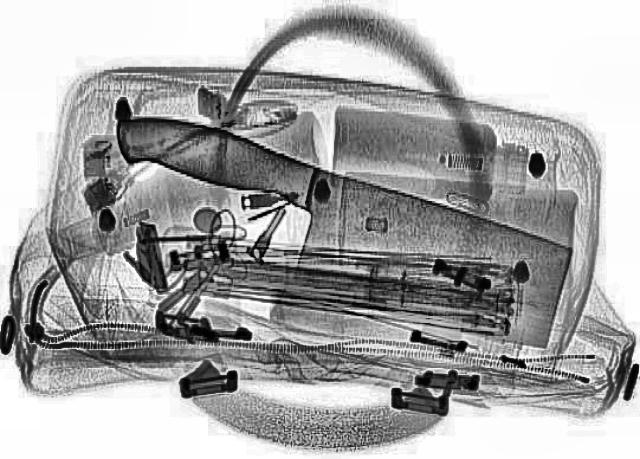Knife: (52, 101, 610, 360)
